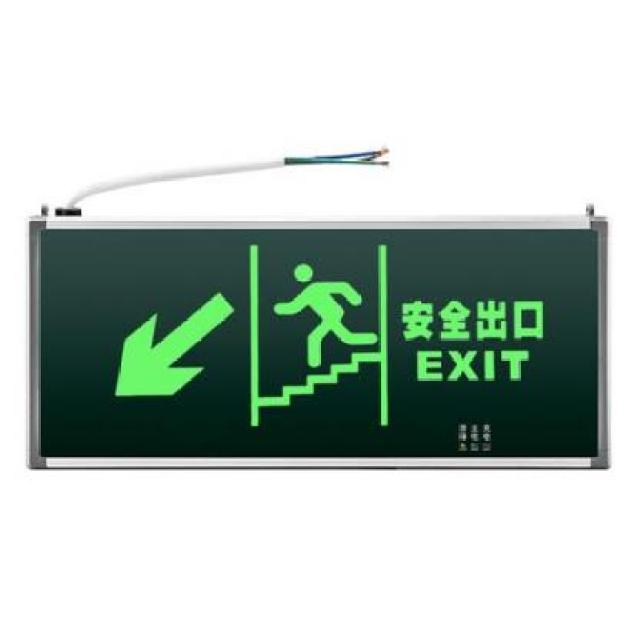exit_sign: (20, 197, 615, 478)
